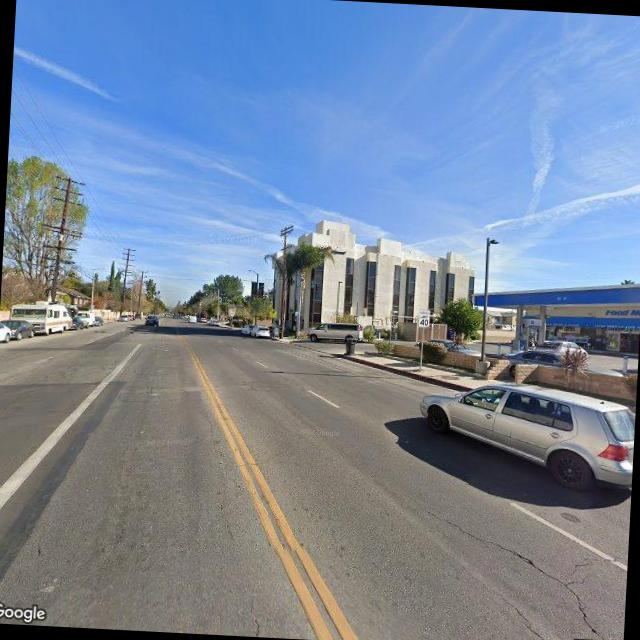crack: (414, 504, 616, 638), (483, 580, 559, 640), (213, 493, 238, 544)
